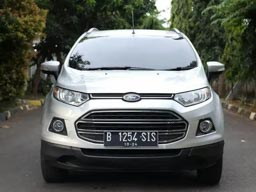plat: (104, 130, 157, 142)
